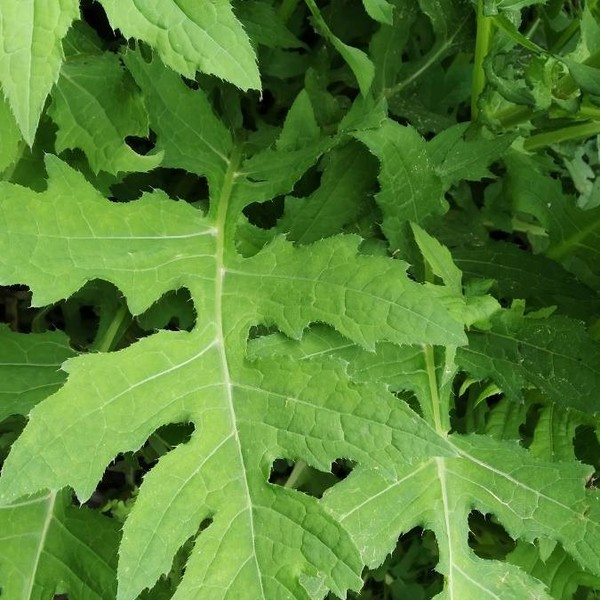obstacle: (46, 57, 545, 556)
